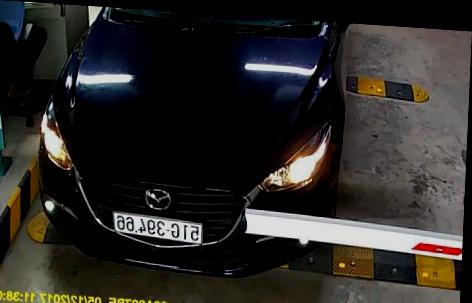License_Plate: (109, 209, 208, 246)
